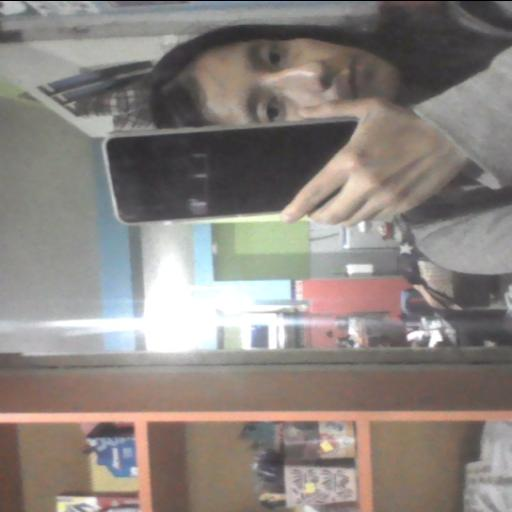phone: (102, 113, 372, 228)
